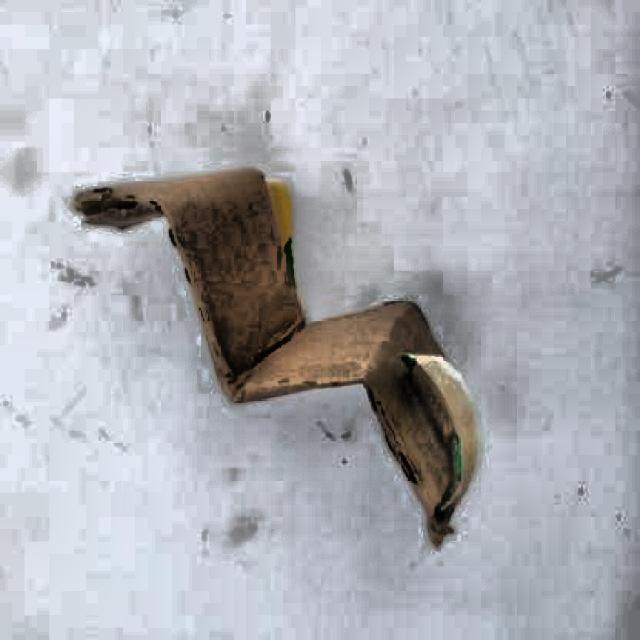Cardbox: (74, 153, 527, 544)
